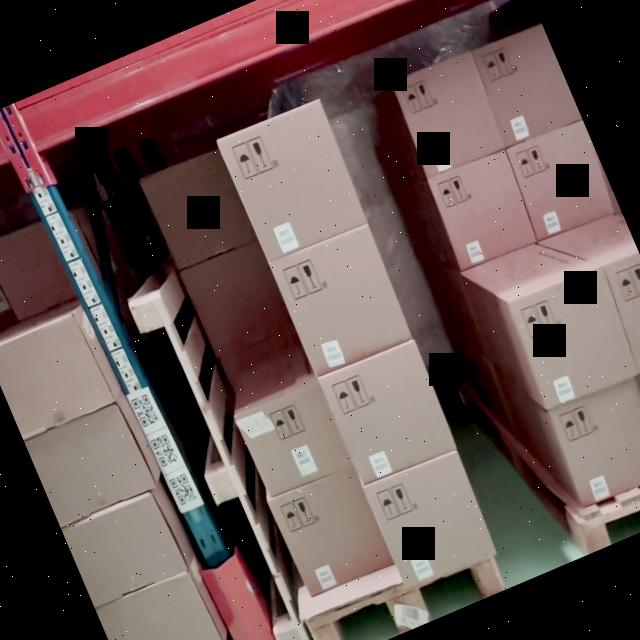box: (215, 94, 370, 262), (316, 334, 458, 479), (272, 230, 414, 375), (358, 445, 498, 589), (505, 265, 637, 407), (269, 462, 393, 594), (393, 50, 504, 182), (428, 149, 538, 267), (237, 381, 351, 494), (550, 373, 640, 507)
